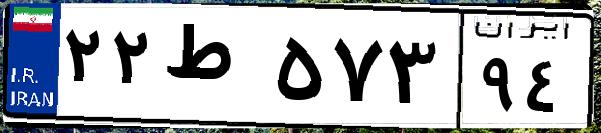2: (57, 26, 110, 100), (110, 28, 158, 98)
3: (385, 28, 445, 110)
4: (525, 38, 570, 115)
5: (270, 28, 330, 110)
7: (330, 28, 385, 110)
9: (475, 38, 525, 113)
ط: (158, 20, 270, 120)
